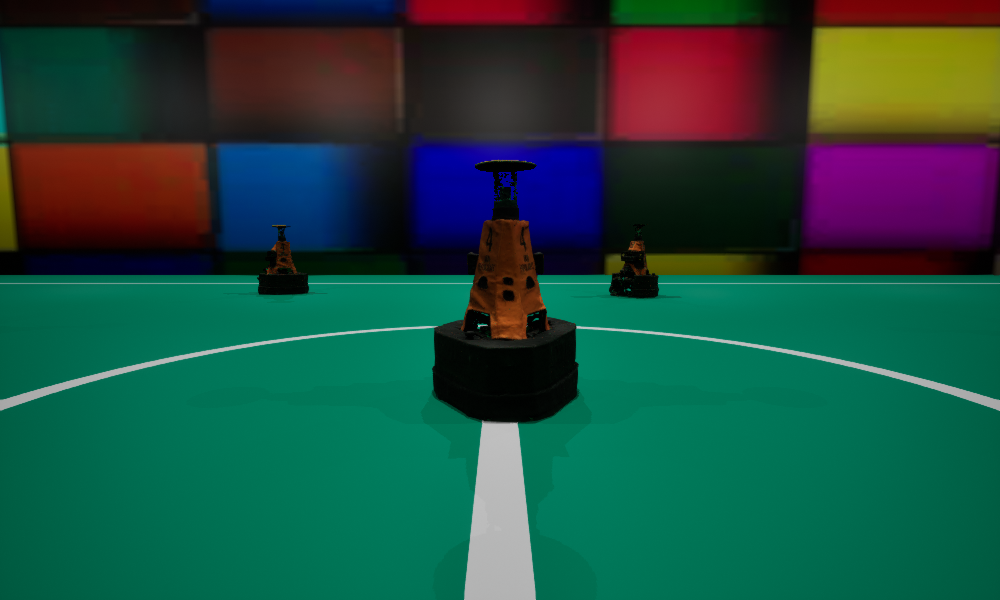o: (432, 160, 578, 421), (609, 224, 658, 297), (257, 225, 308, 294)
